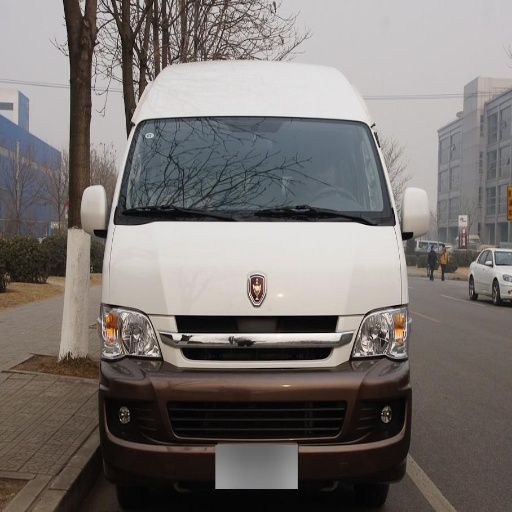front_bumper: (100, 314, 409, 509)
front_right_light: (99, 304, 159, 361)
hood: (111, 226, 401, 314)
left_mirror: (402, 186, 430, 235)
